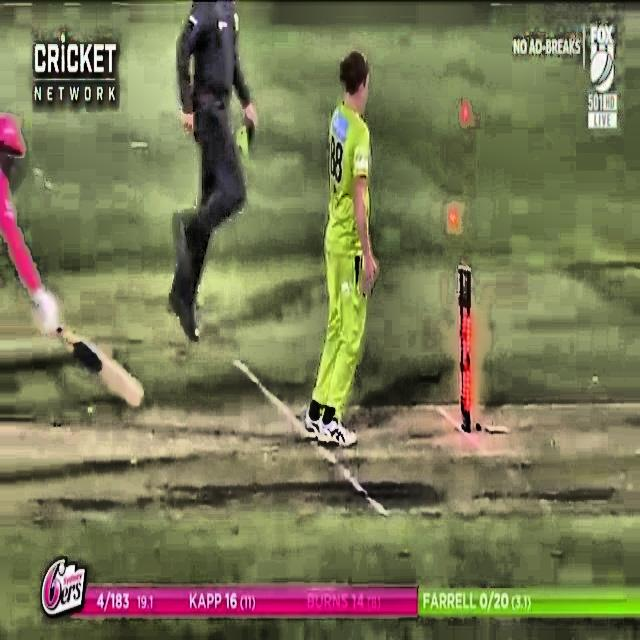Bat: (21, 286, 149, 414)
Dis_Wicket: (442, 210, 486, 449)
Pitch_Line: (228, 358, 330, 451), (318, 445, 386, 518)
